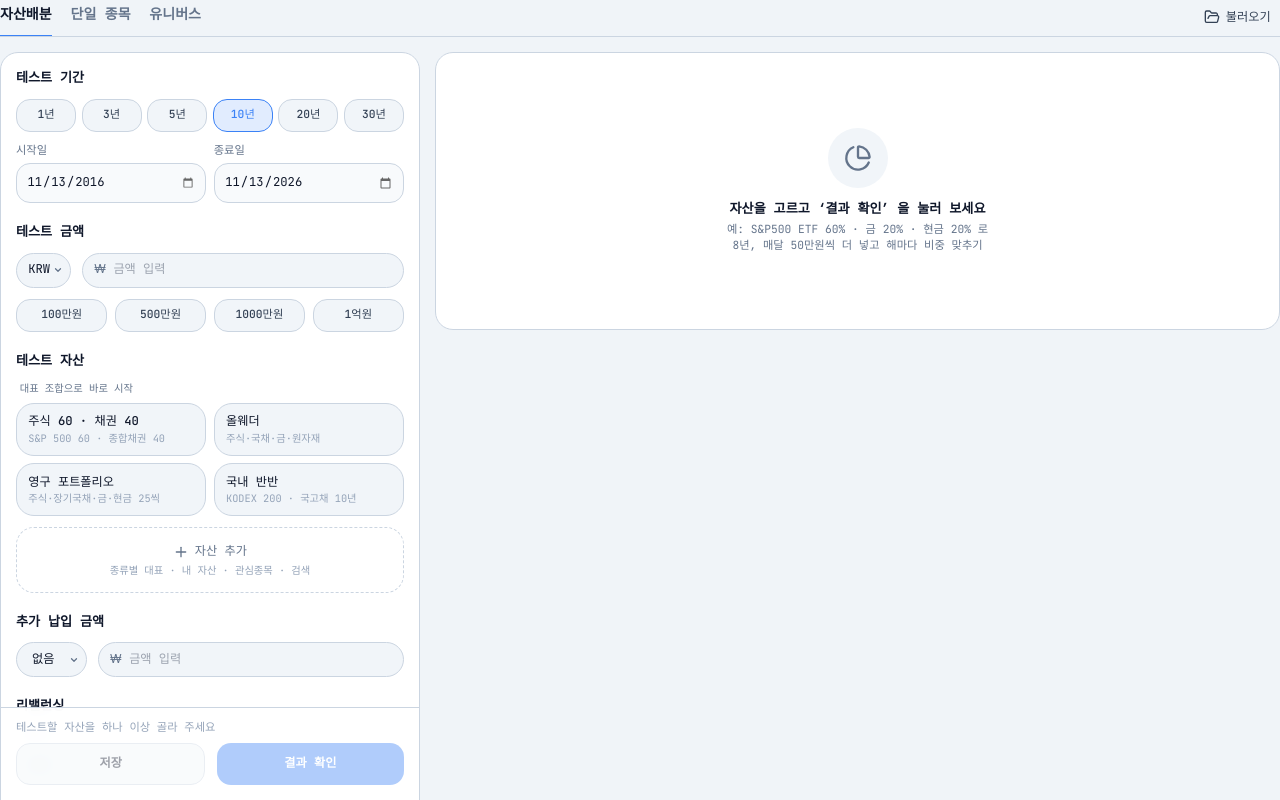
Test case: 지우기는 불러오기 창에서 한다 › 바로 안 지우고 확인 창을 띄운다
Click the button "불러오기" at (1237, 17), box [1195,3,1279,32]
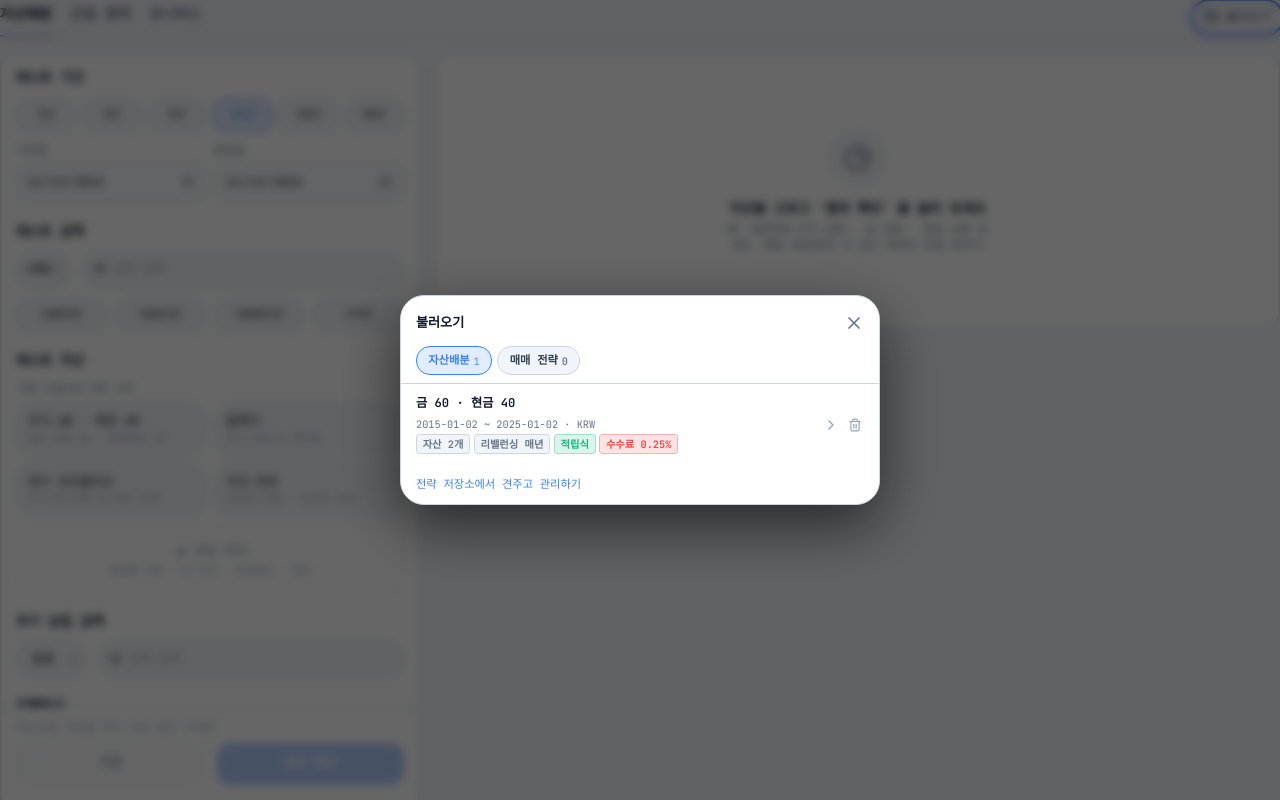
Click the button named "금 60 · 현금 40 지우기" at (855, 425), box [842,412,868,437]
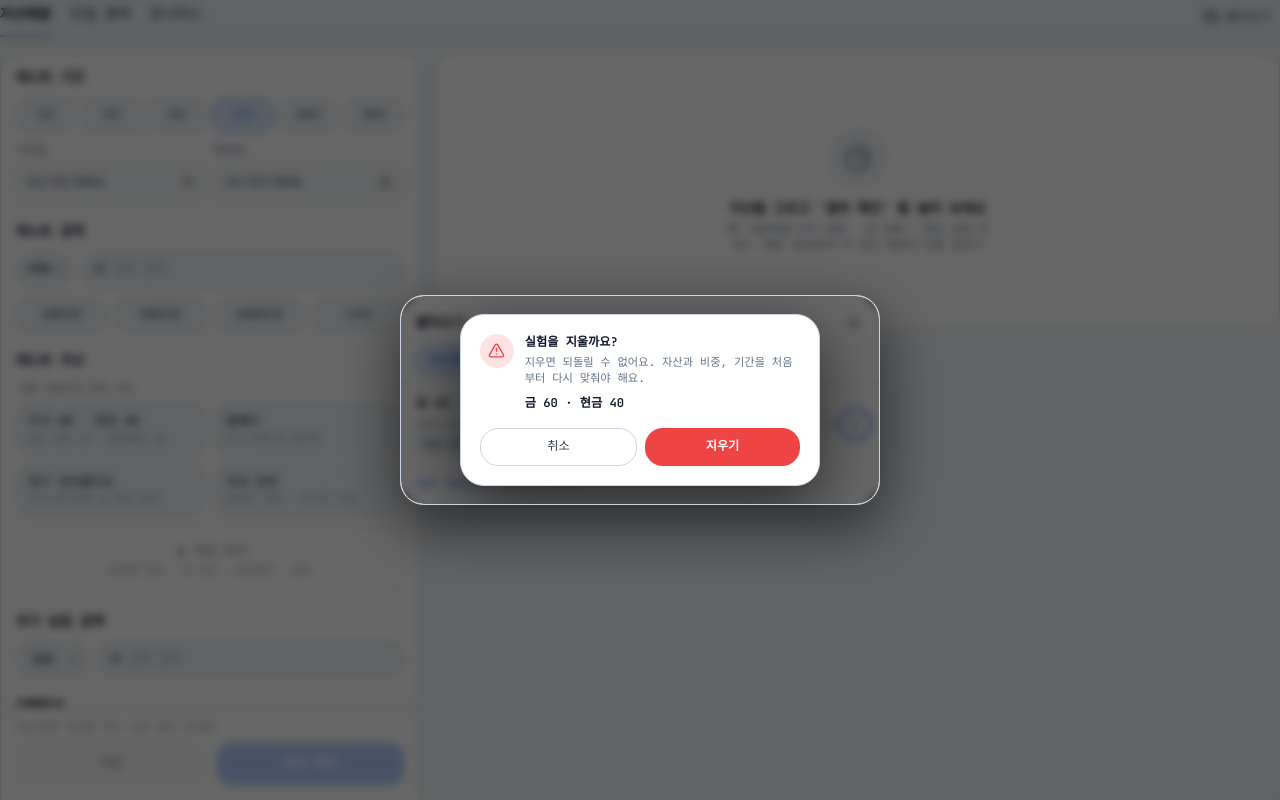
Now the heading "실험을 지울까요?" is shown, box [525,334,618,350]
Now the text "지우면 되돌릴 수 없어요. 자산과 비중, 기간을 처음부터 다시 맞춰야 해요." is shown, box [525,355,800,387]
